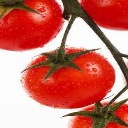tomato: (20, 48, 116, 110), (1, 0, 62, 50), (66, 101, 128, 128), (83, 1, 127, 32)
